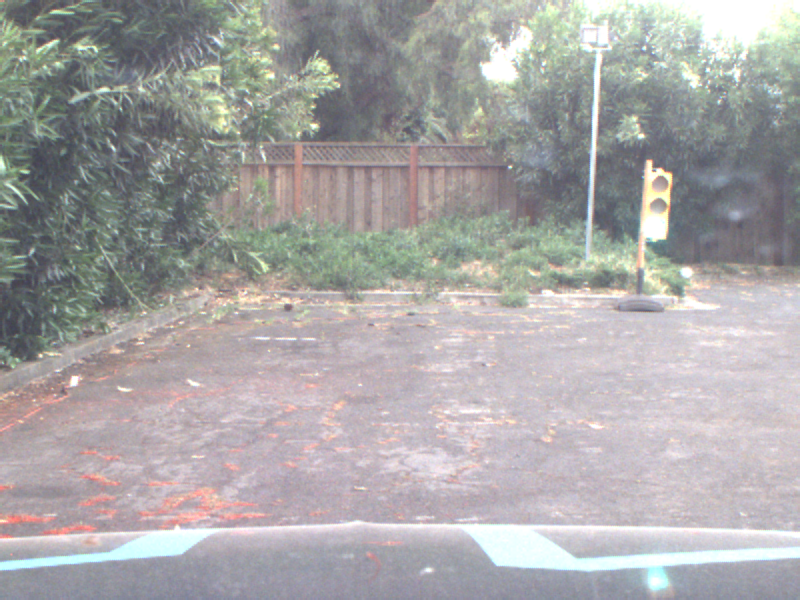Green: (641, 168, 670, 244)
